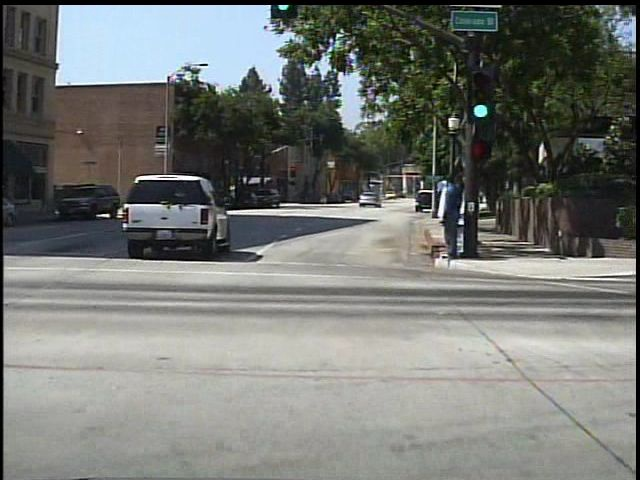person: (438, 172, 465, 263), (431, 177, 456, 263), (318, 191, 329, 206)
